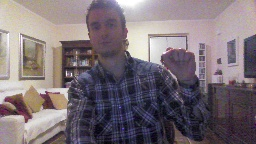Pugno: (159, 46, 198, 83)
